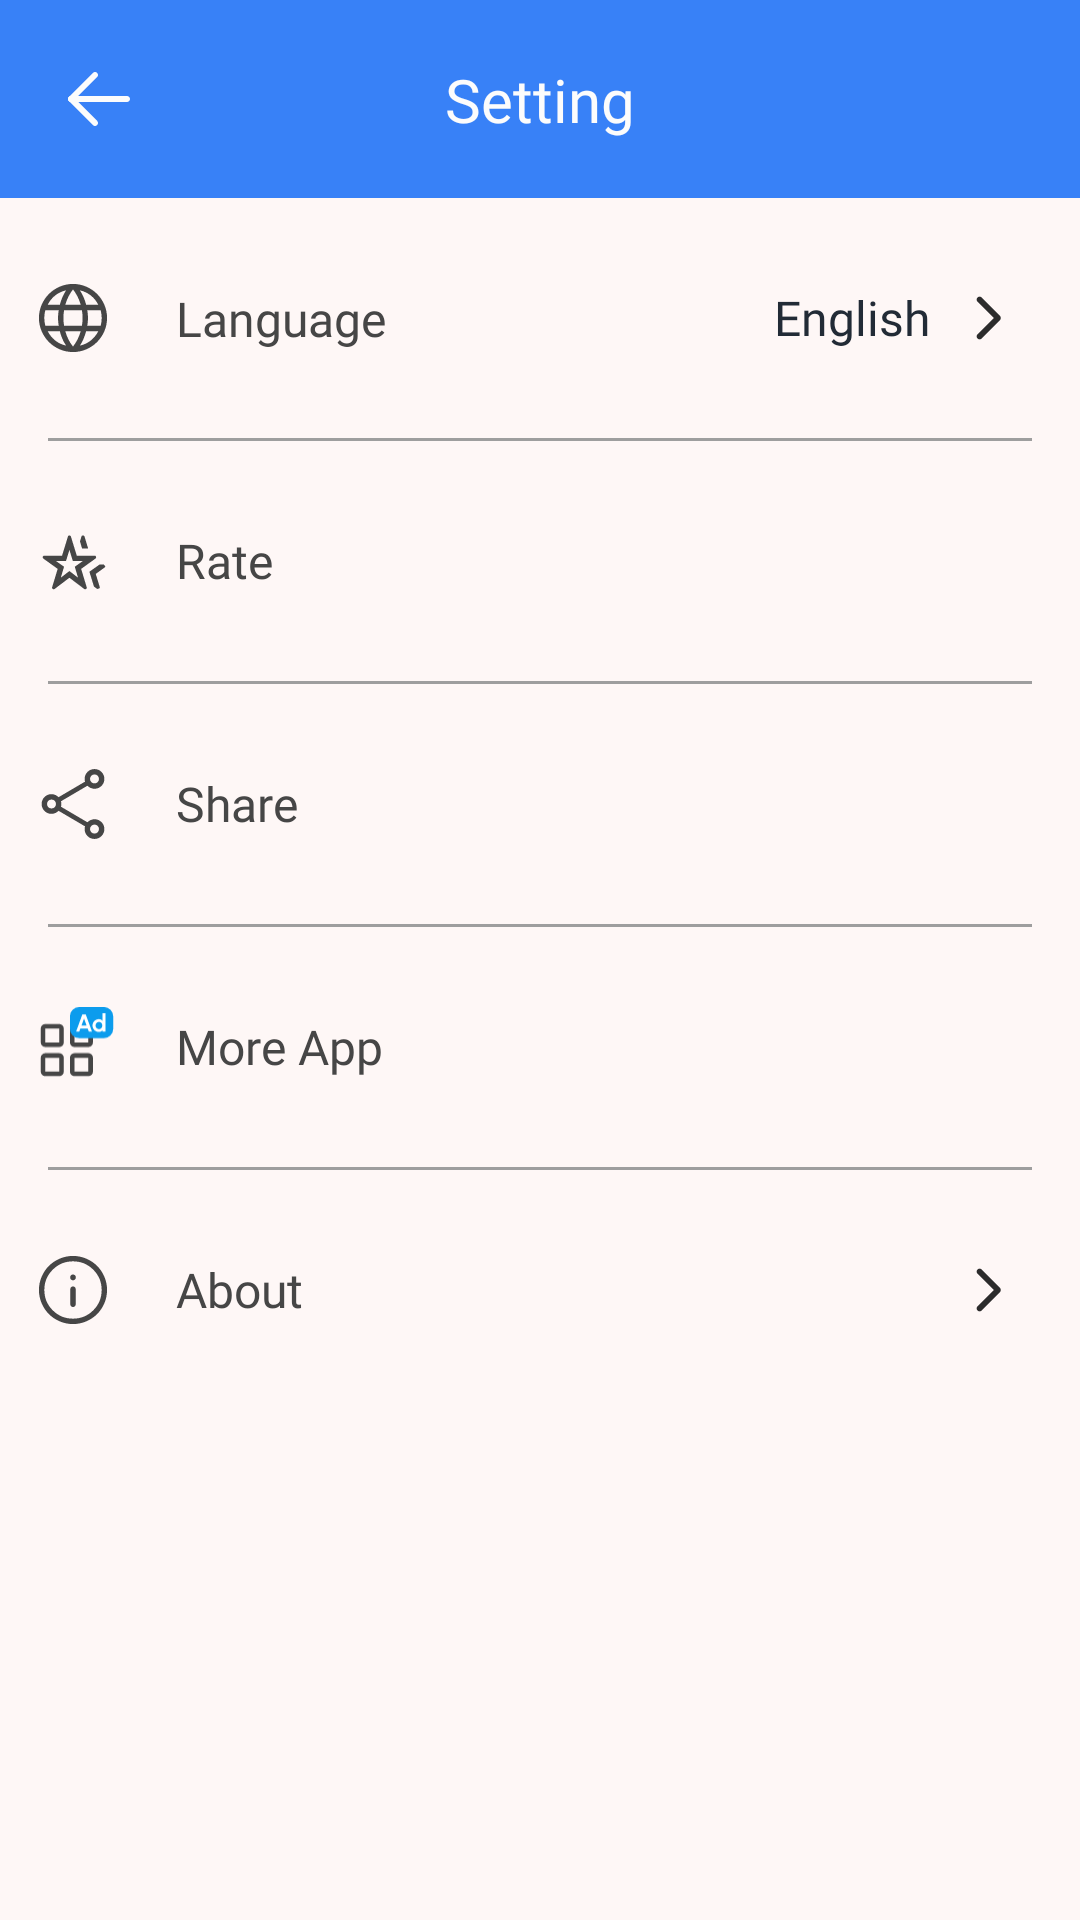

Screen size 1080 x 1920. Icon name, then its box in pixels as (x1, y1, x2, y2):
back: (68, 72, 130, 126)
